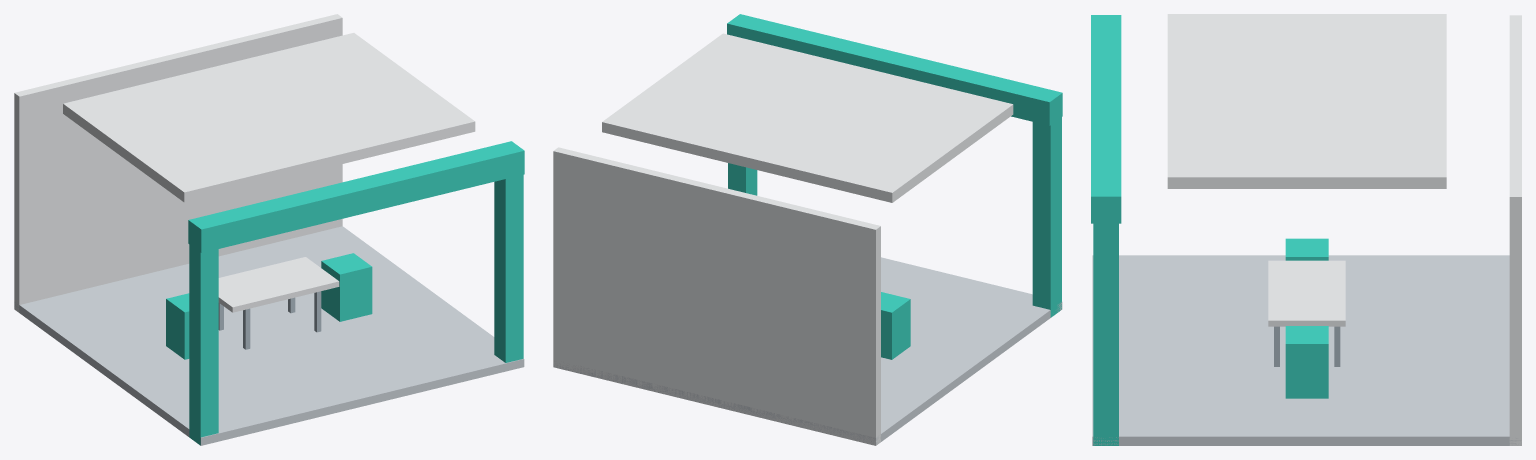
3 views of the same model, side by side, from view 1: azimuth 30°, elevation 25°; view 2: azimuth 150°, elevation 25°; view 3: azimuth 270°, elevation 25° (orthographic). The views are drawn at different scales.
Visible parts, largest first — view 1: Exhibition Booth Concept; view 2: Exhibition Booth Concept; view 3: Exhibition Booth Concept.
Part boxes in pixels (box(x1,y1,x2,y2)): Exhibition Booth Concept: box(14, 14, 524, 445); Exhibition Booth Concept: box(553, 14, 1062, 445); Exhibition Booth Concept: box(1091, 14, 1521, 445).
Bounding box in the file's own units: 5 × 3.34 × 5.02.
